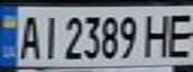2: (60, 11, 84, 61)
3: (81, 11, 103, 61)
8: (100, 12, 121, 60)
9: (115, 11, 142, 60)
A: (15, 11, 42, 61)
E: (163, 8, 193, 59)
H: (139, 10, 175, 58)
I: (36, 11, 60, 61)
